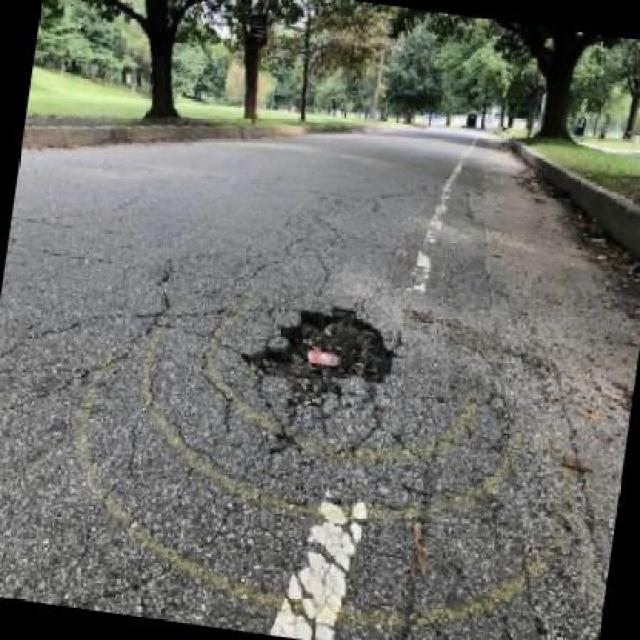pothole: (238, 291, 408, 406)
